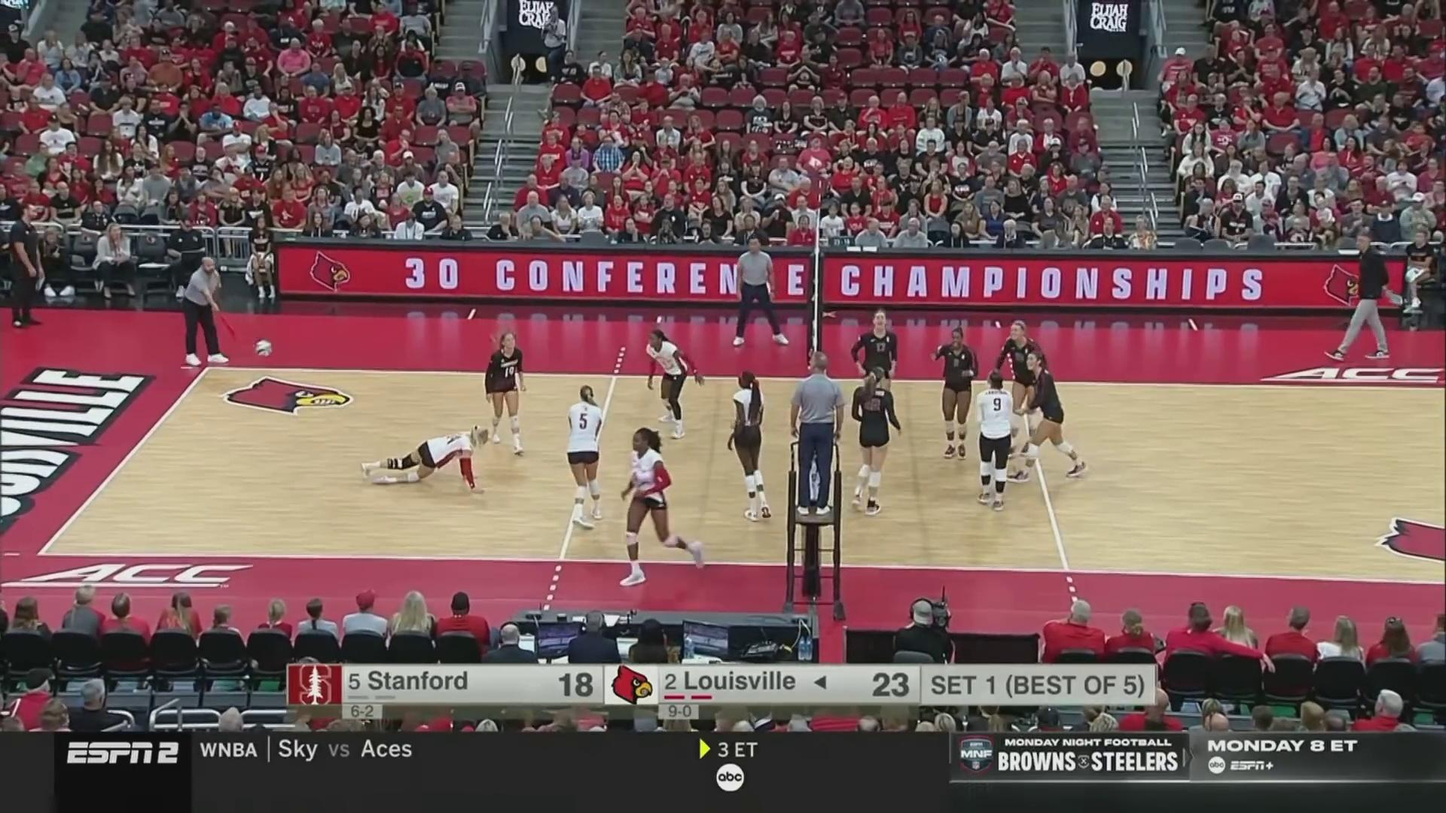player: (617, 426, 705, 583), (1009, 352, 1088, 477), (360, 424, 488, 489), (850, 365, 903, 512), (992, 321, 1046, 455), (727, 371, 772, 524), (645, 331, 705, 438), (932, 327, 978, 458), (852, 310, 899, 437), (566, 387, 607, 527), (484, 330, 528, 456), (975, 370, 1015, 508)
refree: (792, 352, 843, 516), (184, 258, 239, 368), (734, 238, 789, 347)
